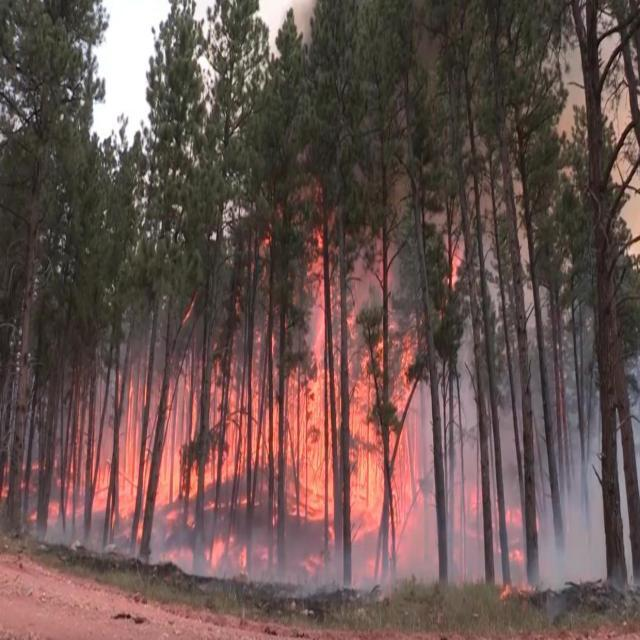Fire: (0, 225, 540, 600)
Smoke: (40, 282, 640, 599)
